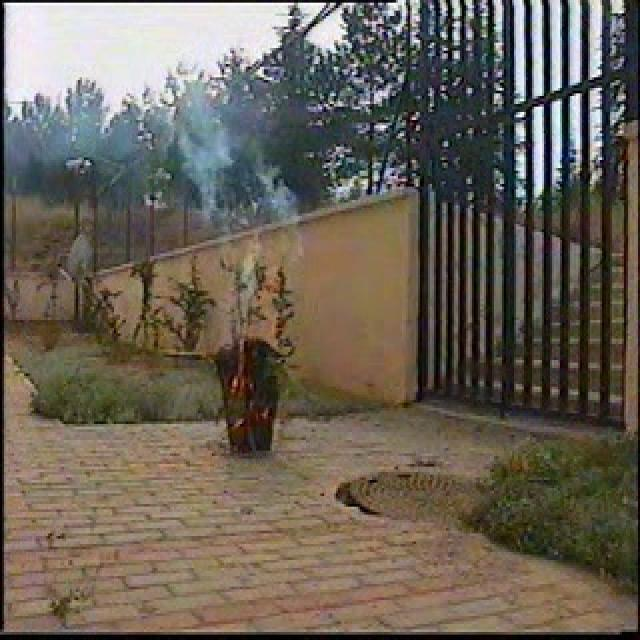Fire: (198, 331, 278, 451)
Smoke: (3, 0, 309, 262)
